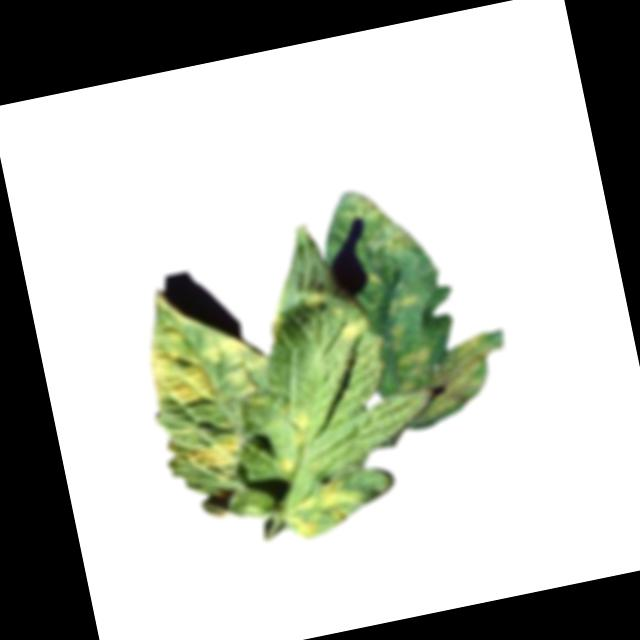Leaf_Mold: (132, 281, 274, 416), (390, 328, 503, 431), (281, 473, 370, 543), (341, 185, 419, 262), (183, 428, 245, 473), (282, 403, 315, 450), (297, 285, 331, 318), (270, 447, 301, 483), (329, 316, 371, 342), (385, 291, 421, 317), (363, 269, 381, 288)
